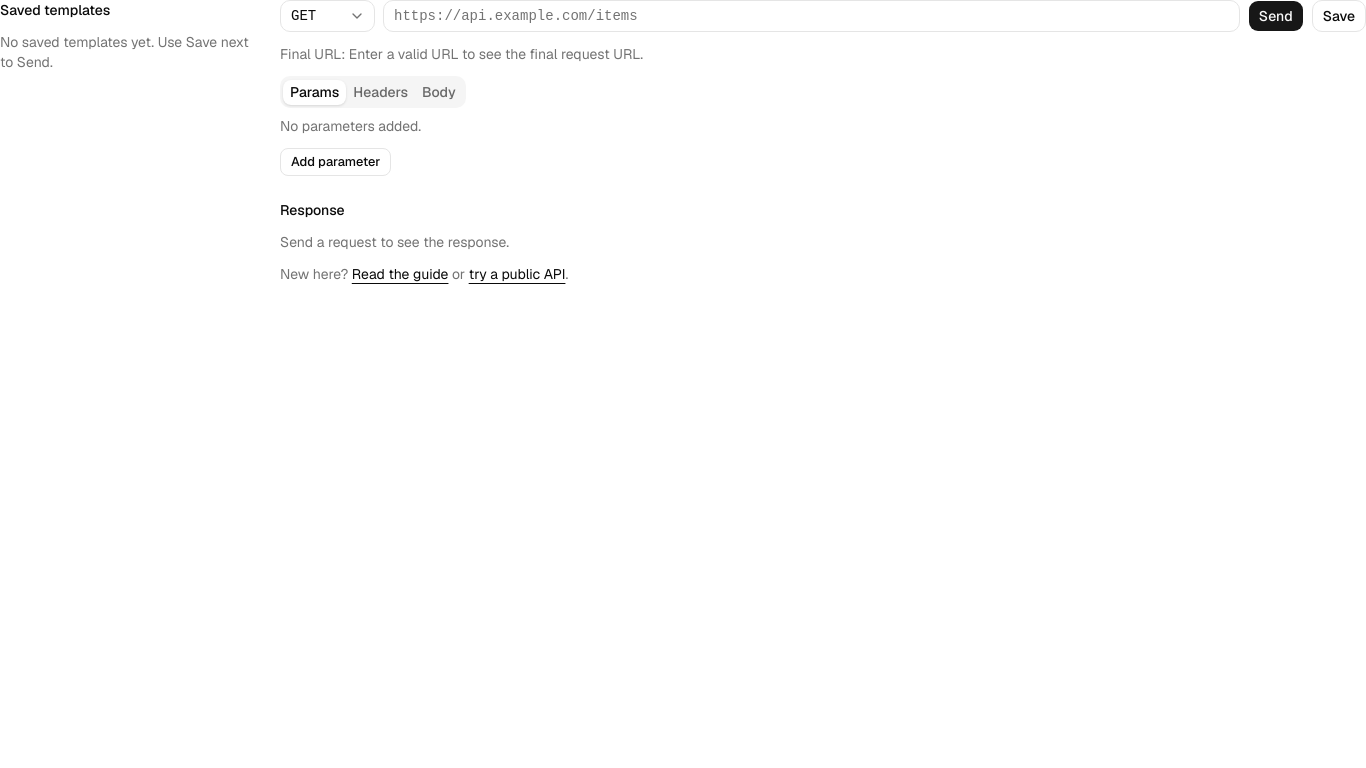
Test: Saving templates (FR-03) › warns before saving without encryption
Expected: the text "No saved templates yet. Use Save next to Send." is shown, [0,32,256,72]
Click the button "Save": coordinates (1339, 16) [1312,0,1365,32]
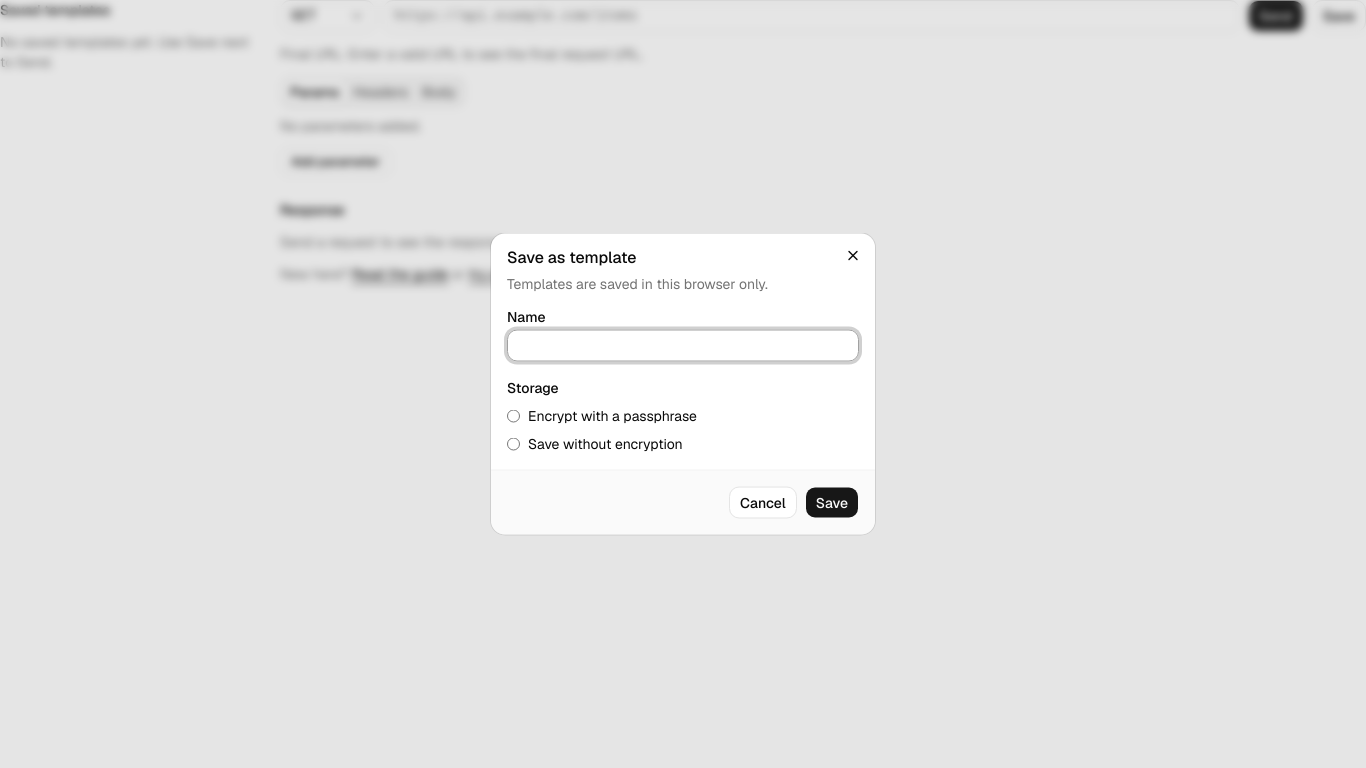
Click the radio button labelled "Save without encryption": coordinates (514, 444) [507,437,520,450]
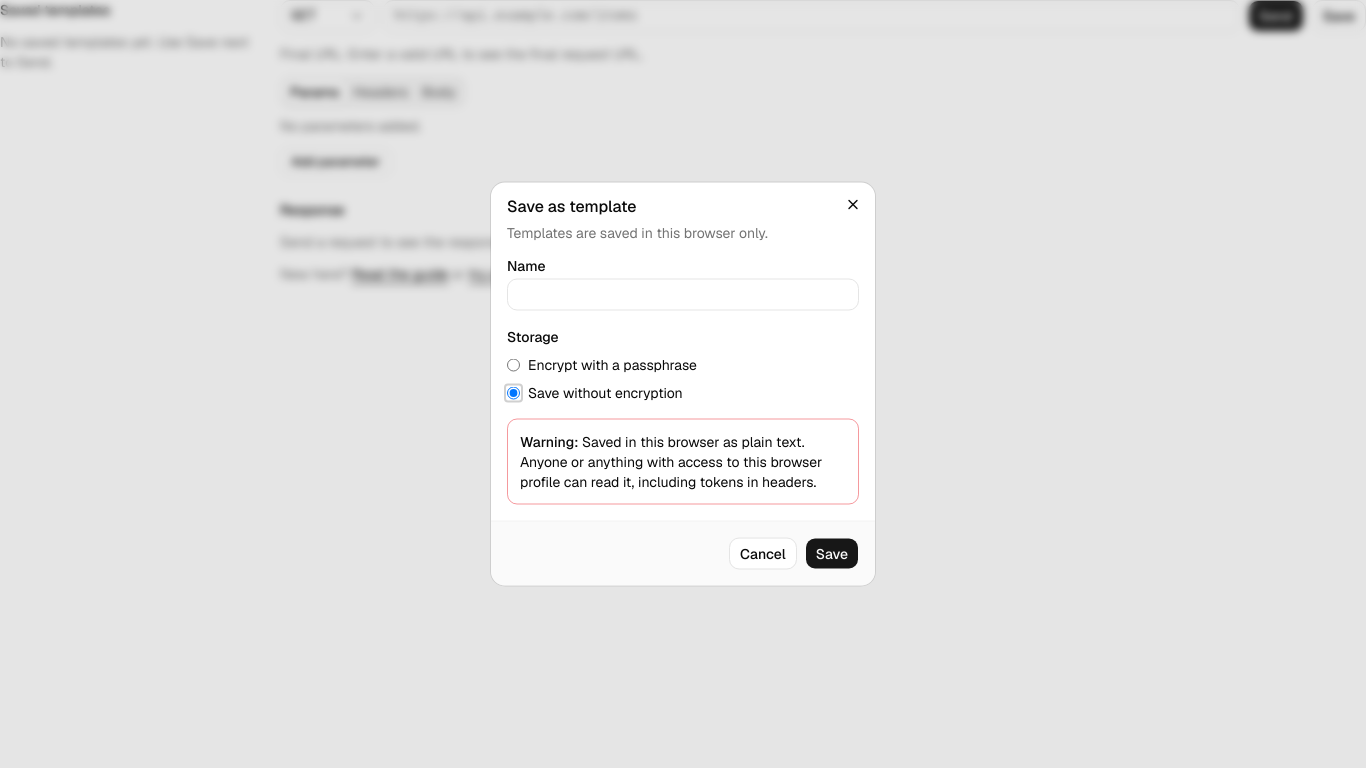
Now the text "Saved in this browser as plain text. Anyone or anything with access to this browser profile can read it, including token" is shown, box [520,432,822,490]
